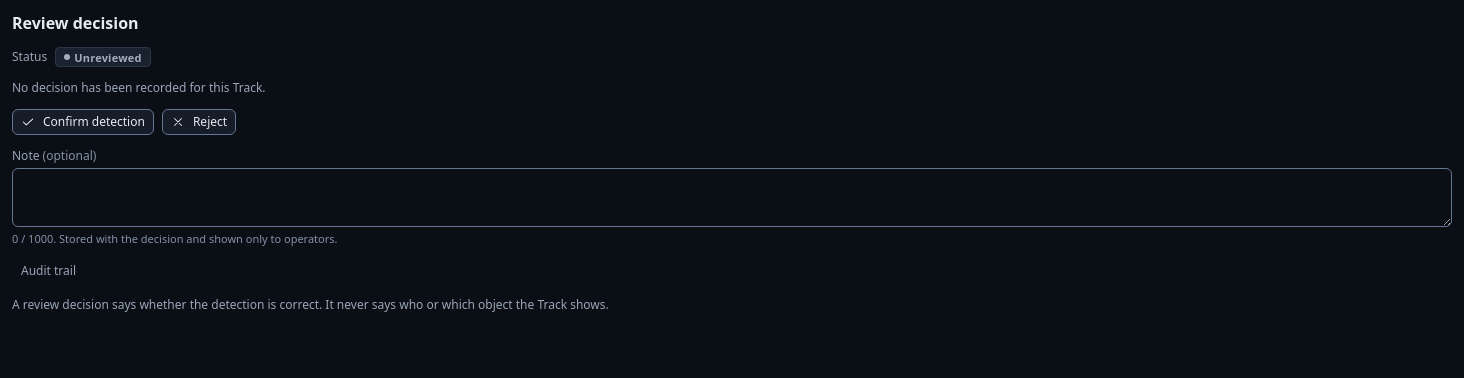
Test: retry and conflict › retries a decision whose answer was lost with the same decisionId, so the server replays it
Click the button "Confirm detection".
click(83, 122)  # box x1=12 y1=109 x2=154 y2=135
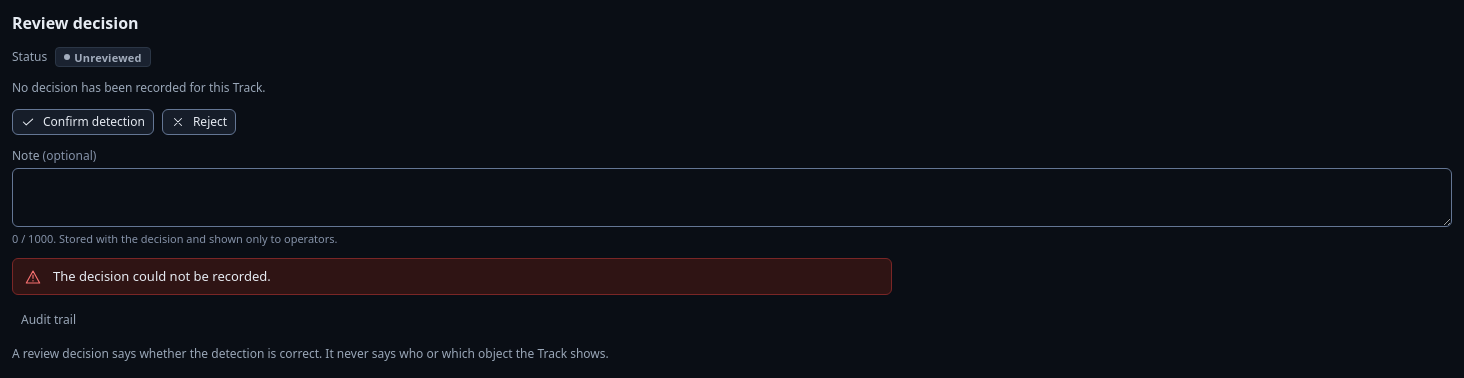
Click the button "Confirm detection".
click(83, 122)  # box x1=12 y1=109 x2=154 y2=135
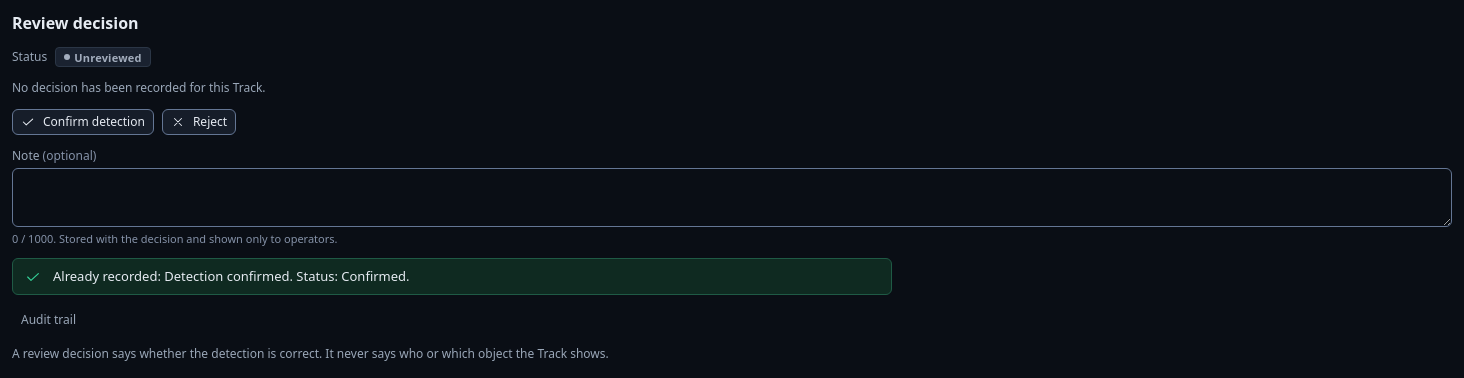
Check: the text "Already recorded: Detection confirmed. Status: Confirmed." is shown, box x1=53 y1=267 x2=410 y2=285
